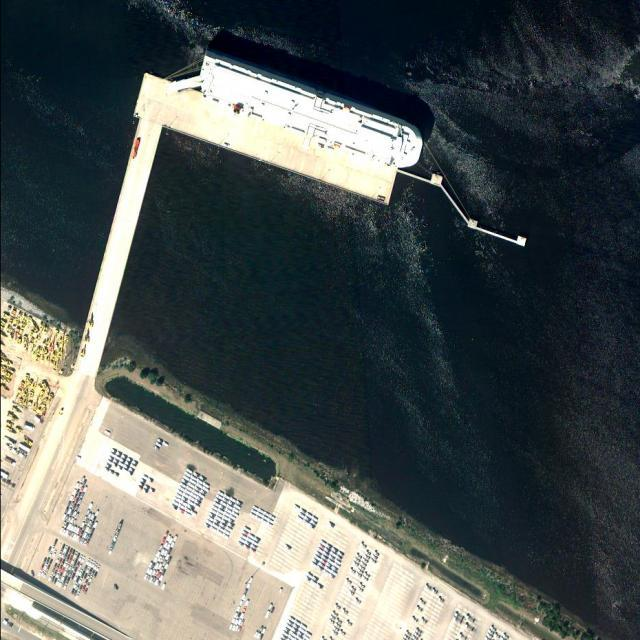Dock: (129, 70, 404, 204)
RoRo: (188, 47, 434, 174)
